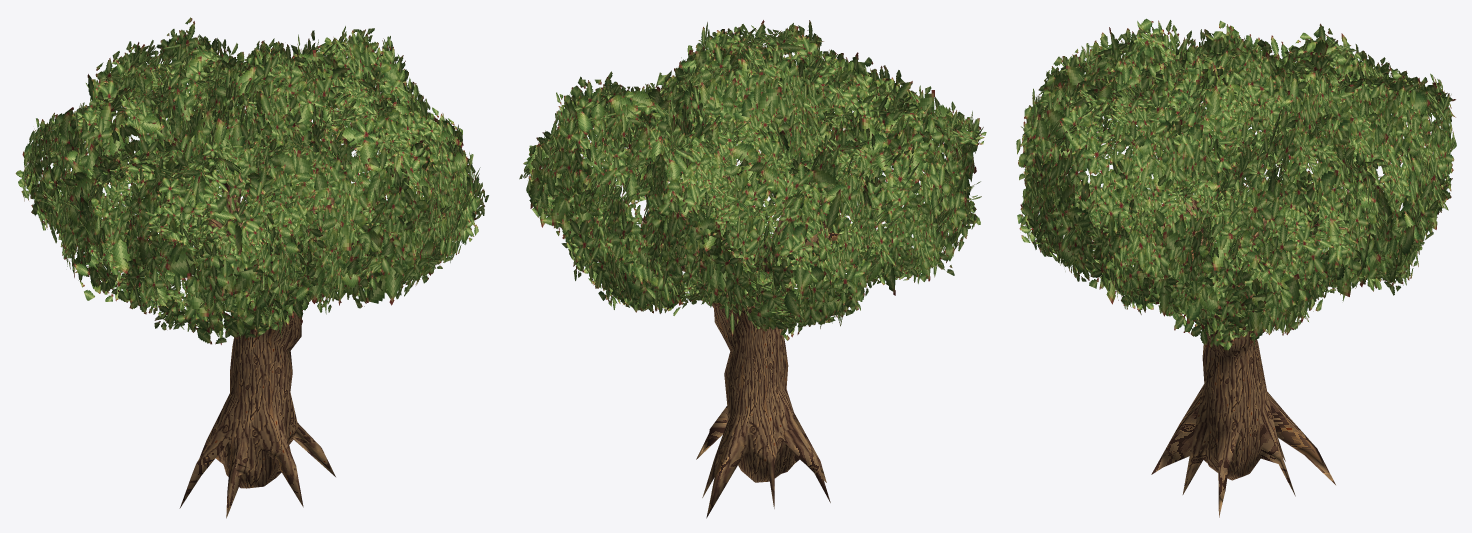
Rendered from macieira_reta_LOD_D.glb.
The picture shows the model from 3 angles, left to right: view 1: azimuth 30°, elevation 25°; view 2: azimuth 150°, elevation 25°; view 3: azimuth 270°, elevation 25°; orthographic projection. The views are drawn at different scales.
Parts seen in each view (by area): view 1: macieira_inclinada; view 2: macieira_inclinada; view 3: macieira_inclinada.
Part boxes in pixels (bbox=[...]): macieira_inclinada: bbox=[15, 17, 488, 518]; macieira_inclinada: bbox=[519, 20, 986, 518]; macieira_inclinada: bbox=[1016, 18, 1456, 517].
Bounding box in the file's own units: 5.9 × 6.29 × 5.54.
2 materials, 2 textured.
